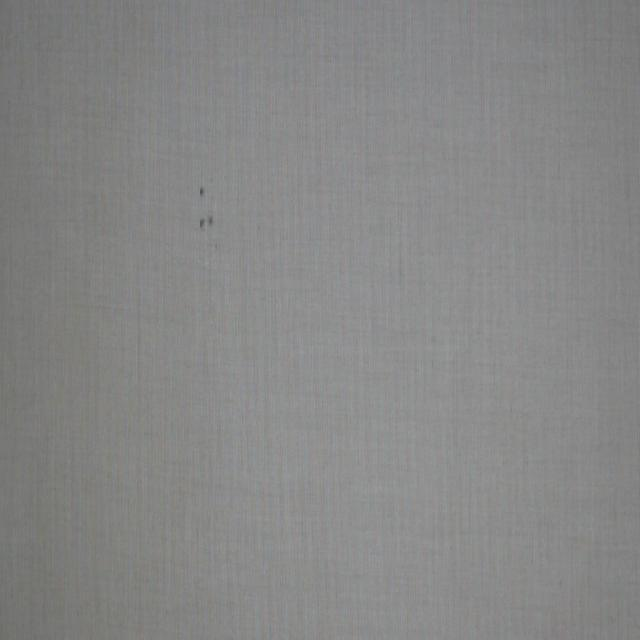dirty: (200, 215, 212, 228), (200, 188, 205, 197)
